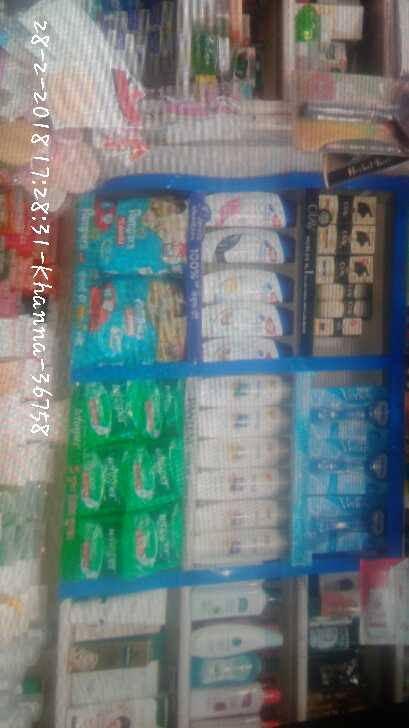venus: (304, 495, 390, 552), (308, 386, 393, 440), (304, 447, 392, 495)
